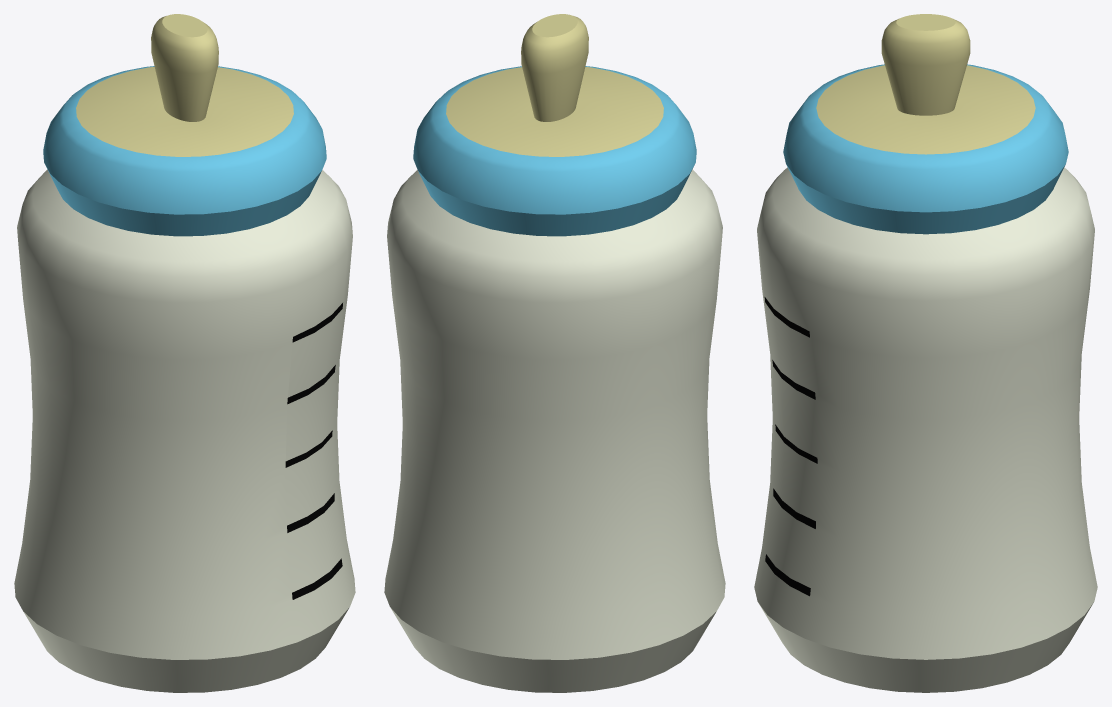
File: mamadeira.fbx
3 renders of one model, left to right at view 1: azimuth 30°, elevation 25°; view 2: azimuth 150°, elevation 25°; view 3: azimuth 270°, elevation 25°, orthographic.
Parts seen in each view (by area): view 1: Cylinder; view 2: Cylinder; view 3: Cylinder.
Part boxes in pixels (bbox=[...]): Cylinder: bbox=[14, 14, 355, 692]; Cylinder: bbox=[384, 14, 725, 692]; Cylinder: bbox=[754, 14, 1097, 692].
Size of the model in its own units: 4.31 by 4.31 by 8.43.
